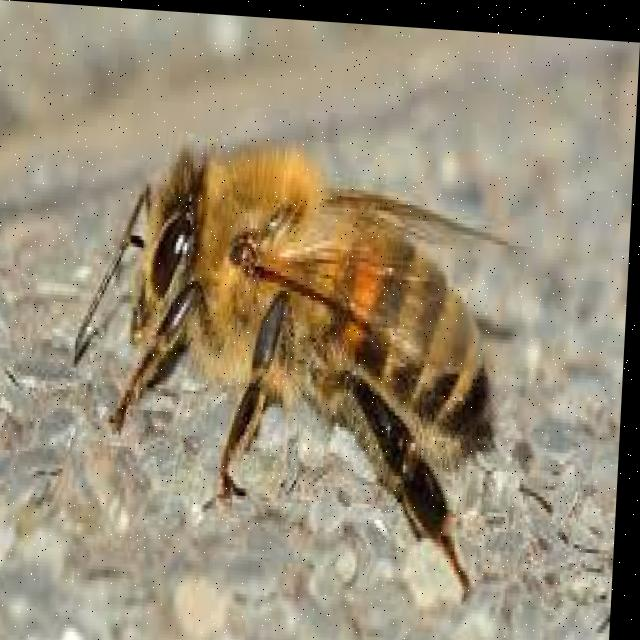Apis-mellifera-scutellata: (54, 95, 545, 593)
